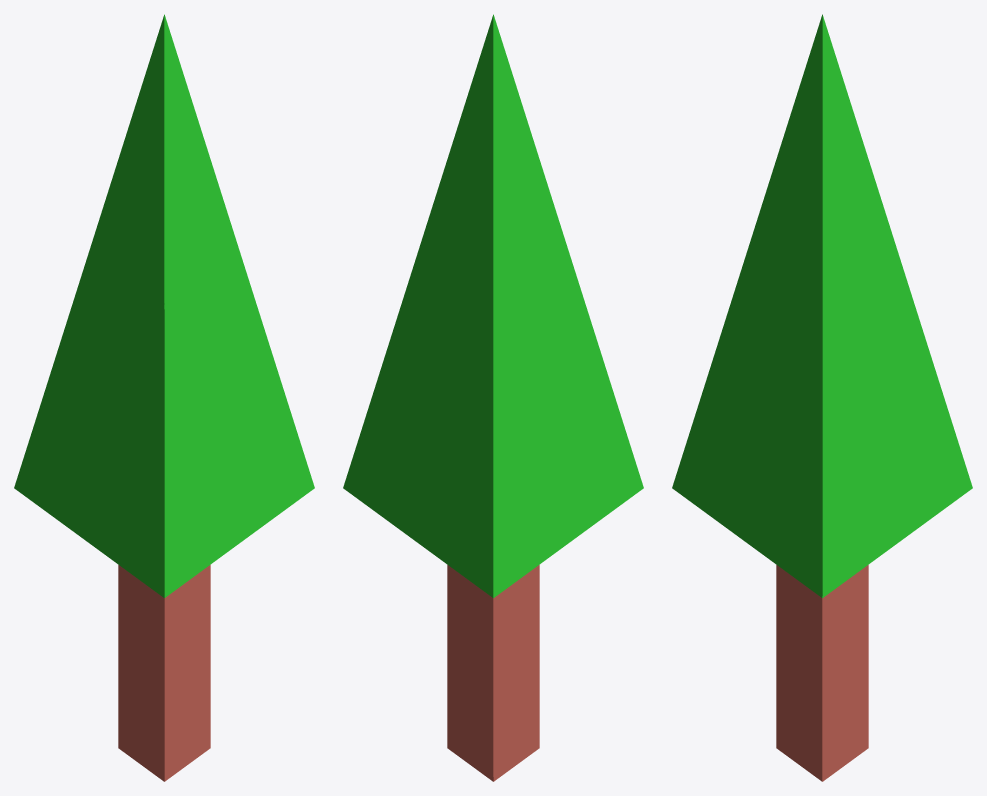
Rendered from Tree.fbx.
The picture shows the model from 3 angles, left to right: view 1: azimuth 30°, elevation 25°; view 2: azimuth 150°, elevation 25°; view 3: azimuth 270°, elevation 25°; orthographic projection.
Visible parts, largest first — view 1: 参数柱体.001; view 2: 参数柱体.001; view 3: 参数柱体.001.
Part boxes in pixels (left/top/right/bottom): 参数柱体.001: left=14, top=14, right=314, bottom=781; 参数柱体.001: left=343, top=14, right=643, bottom=781; 参数柱体.001: left=672, top=14, right=972, bottom=781.
Bounding box in the file's own units: 4.88 × 15.38 × 5.63.
